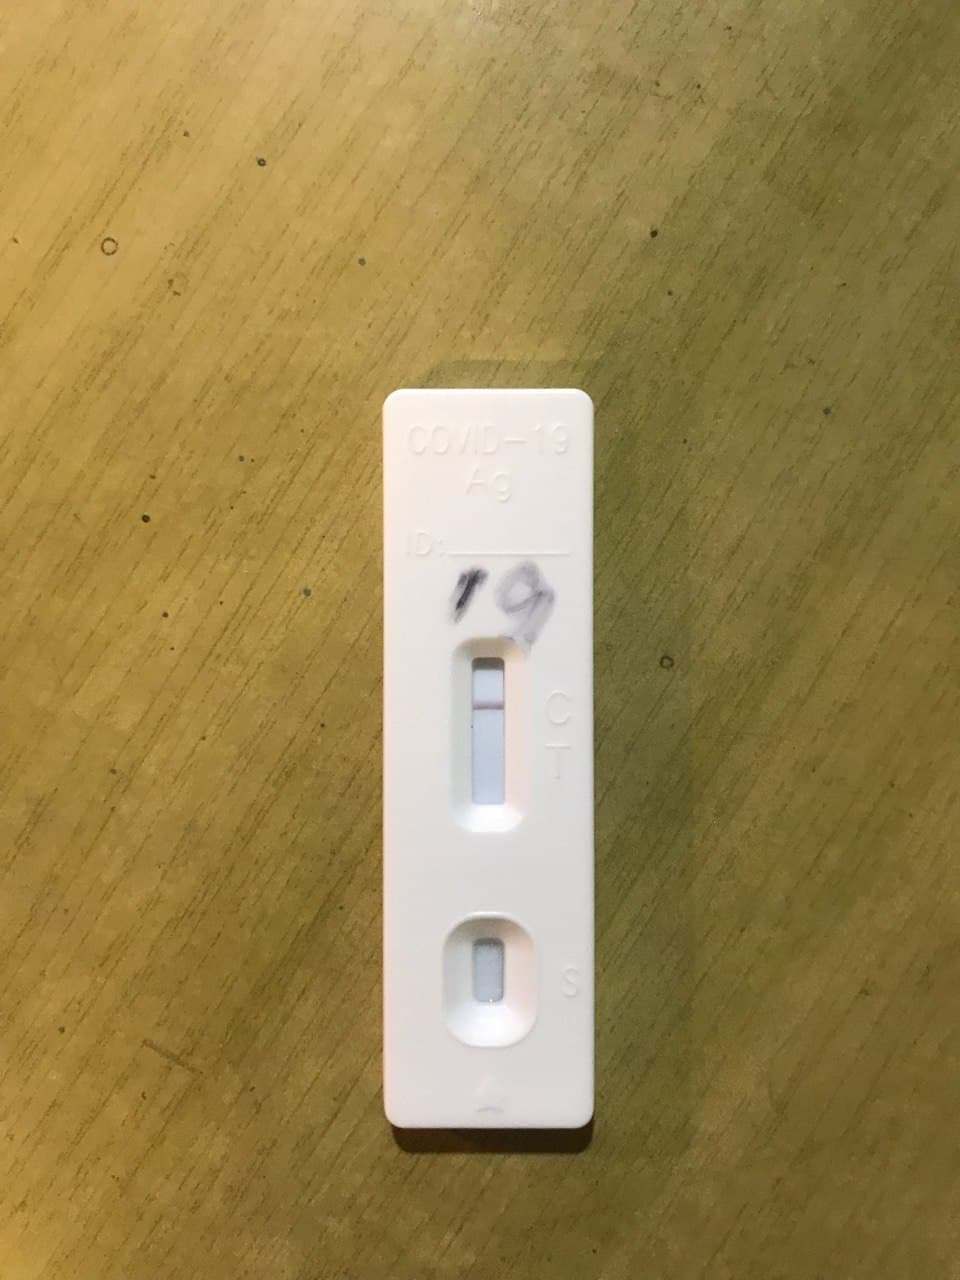rapid_test: (379, 382, 600, 1129)
